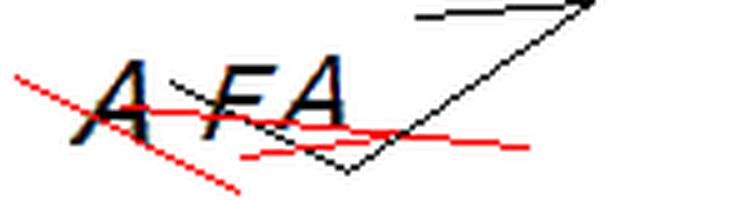A: (62, 53, 168, 154), (273, 47, 359, 139)
F: (195, 55, 280, 144)
